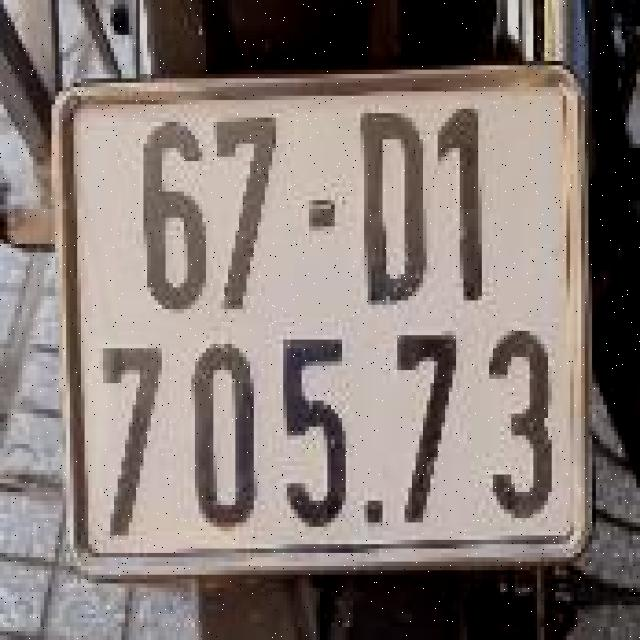0: (175, 333, 270, 538)
1: (434, 91, 504, 305)
3: (478, 322, 570, 536)
5: (272, 316, 361, 533)
6: (131, 105, 215, 326)
7: (210, 87, 290, 314), (86, 329, 168, 546), (381, 328, 465, 524)
D: (346, 92, 434, 314)
